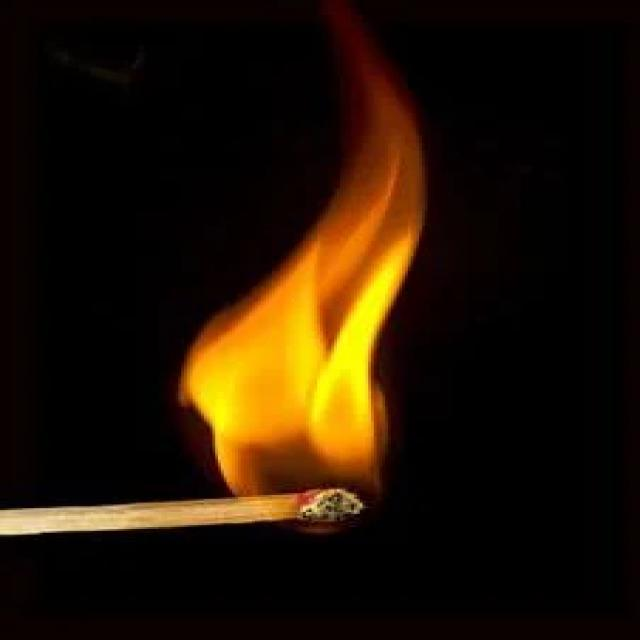fire: (194, 2, 436, 532)
